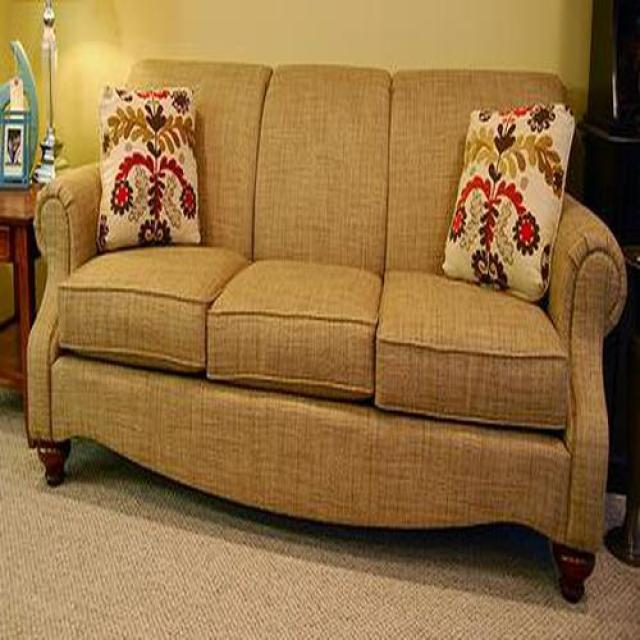sofa: (24, 60, 630, 604)
